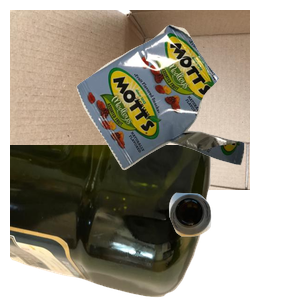cardboard: (10, 10, 250, 190)
glass: (166, 190, 300, 300)
plastic: (10, 145, 213, 300)
trash: (74, 22, 300, 185)
